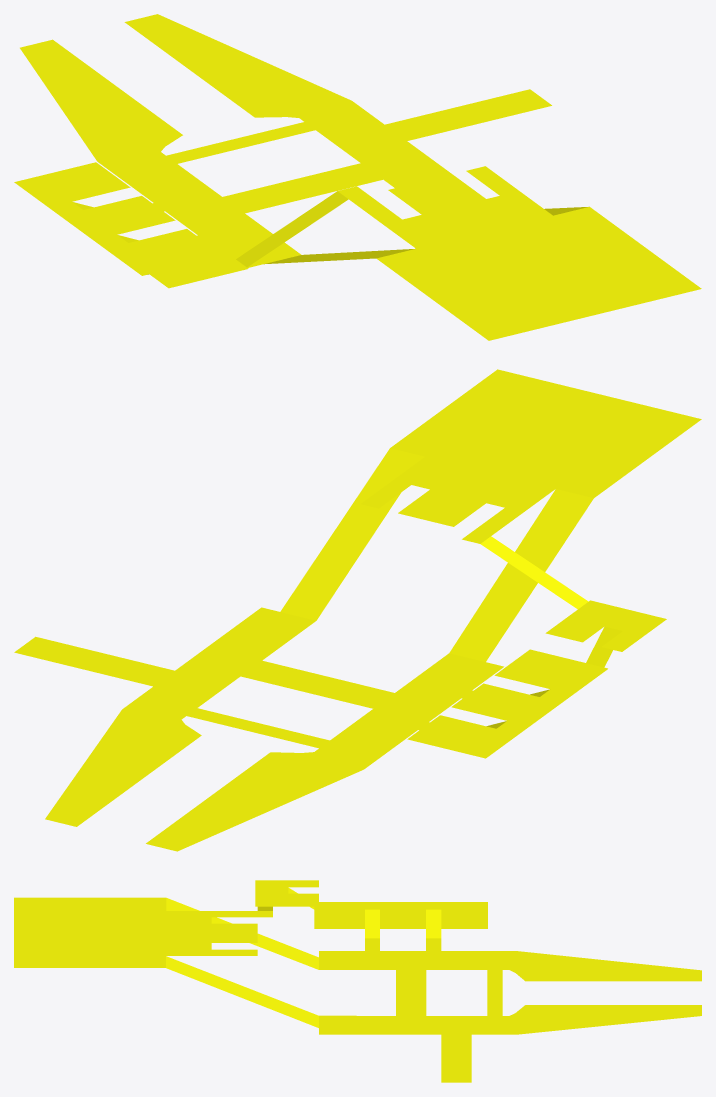
The model's file is road_test3.dae.
The picture shows the model from 3 angles, top to bottom: view 1: azimuth 30°, elevation 25°; view 2: azimuth 150°, elevation 25°; view 3: azimuth 270°, elevation 25°; orthographic projection. The views are drawn at different scales.
Parts seen in each view (by area): view 1: polySurface3; view 2: polySurface3; view 3: polySurface3.
Boxes of the visible parts, x1,y1,x2,y2 form: polySurface3: (14, 14, 701, 340); polySurface3: (14, 369, 701, 851); polySurface3: (14, 880, 701, 1082).
Size of the model in its own units: 26.7 by 4.33 by 45.08.
